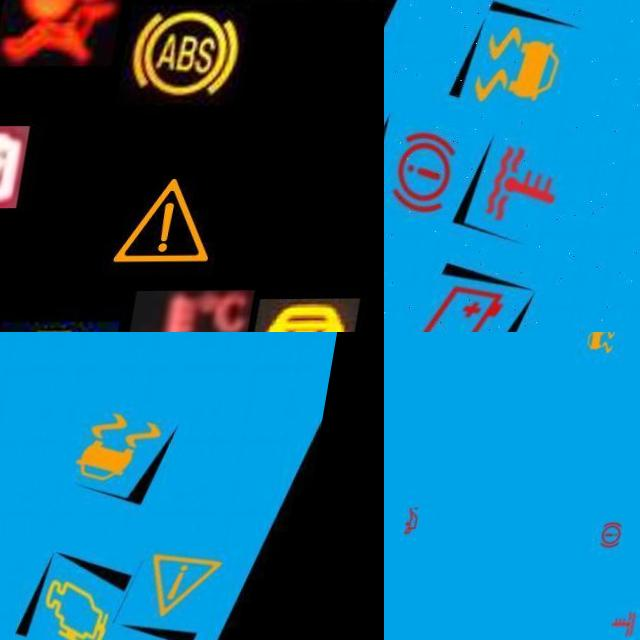Central Warning lamp: (115, 162, 249, 280)
Engine cooling system: (143, 291, 271, 332)
High Engine Coolant Temperature: (619, 608, 640, 640)
